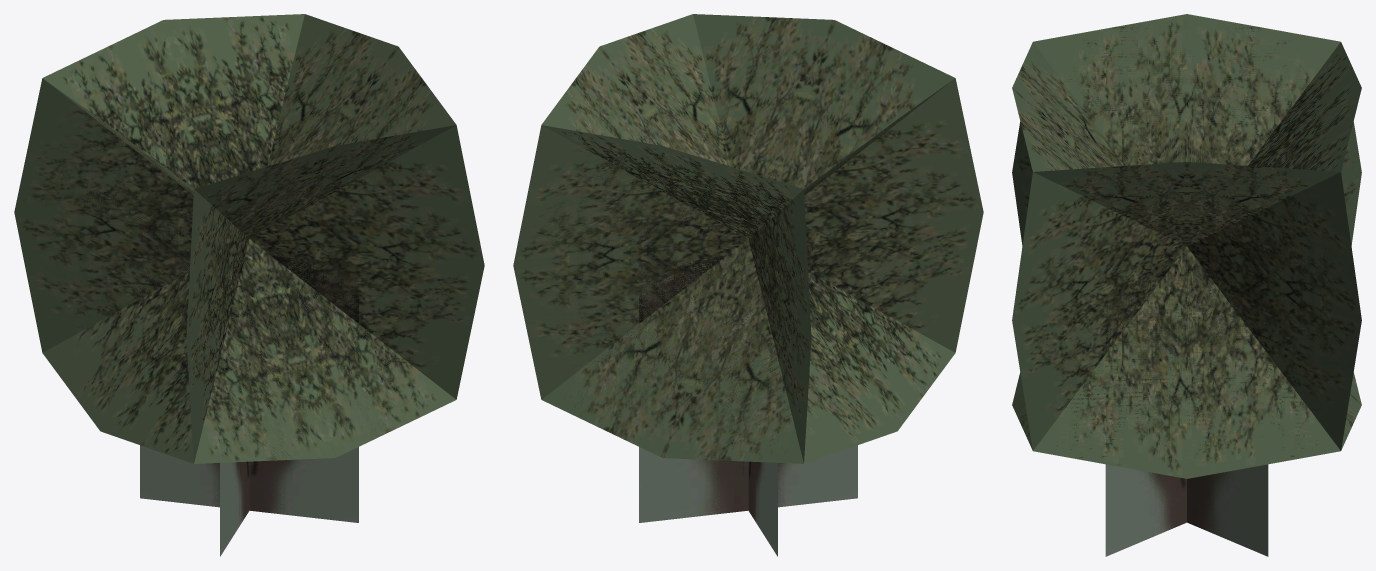
File: decd_lok_mkpud_l0.fbx
The picture shows the model from 3 angles, left to right: view 1: azimuth 30°, elevation 25°; view 2: azimuth 150°, elevation 25°; view 3: azimuth 270°, elevation 25°; orthographic projection.
Visible parts, largest first — view 1: mesh_node; view 2: mesh_node; view 3: mesh_node.
Boxes of the visible parts, box(x1,y1,x2,y2) form: mesh_node: box(14, 14, 484, 556); mesh_node: box(513, 14, 983, 556); mesh_node: box(1012, 14, 1361, 556).
Size of the model in its own units: 1.84 by 2.52 by 1.84.
